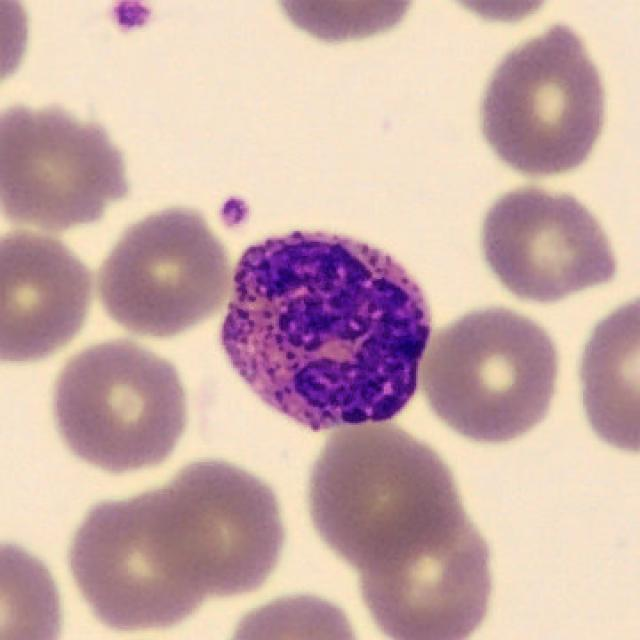Neutrofilo segmentado: (220, 231, 432, 434)
